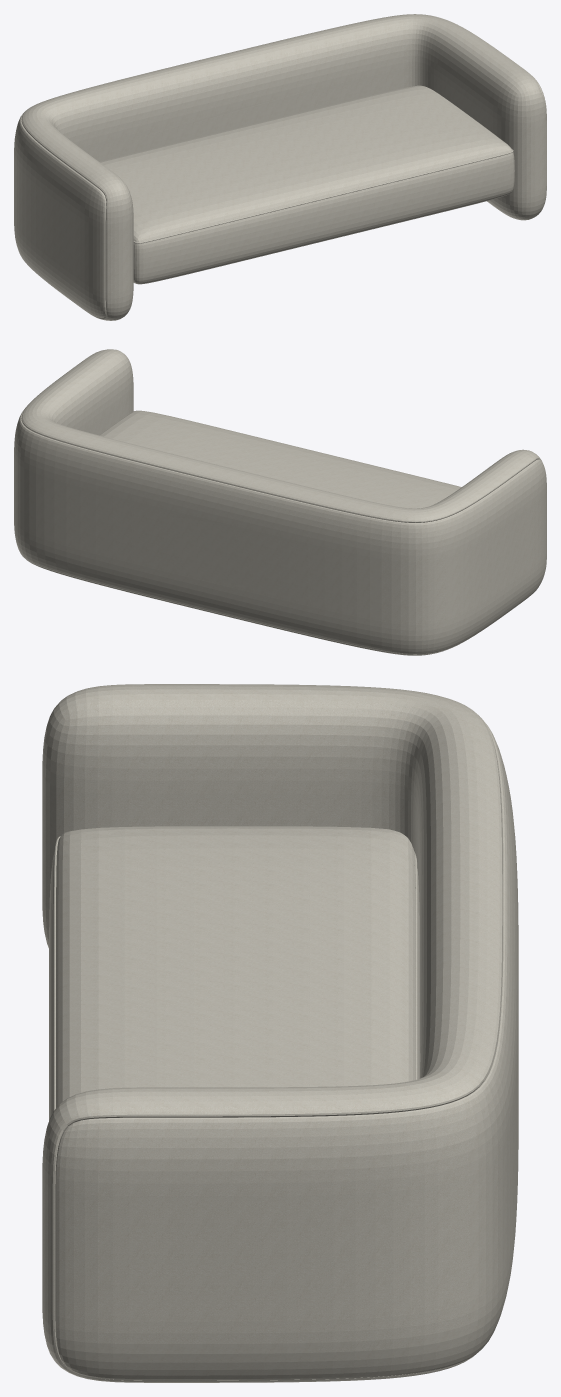
The model's file is sofa_sorin_zeea_agave_casa.glb.
3 renders of one model, top to bottom at view 1: azimuth 30°, elevation 25°; view 2: azimuth 150°, elevation 25°; view 3: azimuth 270°, elevation 25°, orthographic. The views are drawn at different scales.
Visible parts, largest first — view 1: ESTRUTURA; view 2: ESTRUTURA; view 3: ESTRUTURA.
Boxes of the visible parts, <box> form: ESTRUTURA: <box>14,14,546,320</box>; ESTRUTURA: <box>14,349,546,655</box>; ESTRUTURA: <box>42,684,518,1382</box>.
Bounding box in the file's own units: 2.4 × 0.72 × 1.09.
1 material, 1 textured.
